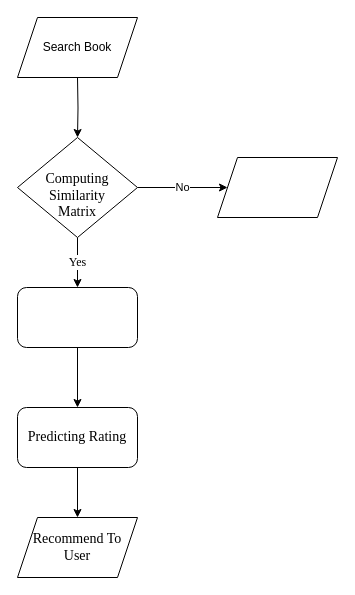
This 355x595 diagram has some shape labels left out. The centre of each missing label's shape, as x and y in pixels:
No Result: (x=277, y=187)
Selecting Neighborhood: (x=77, y=317)
